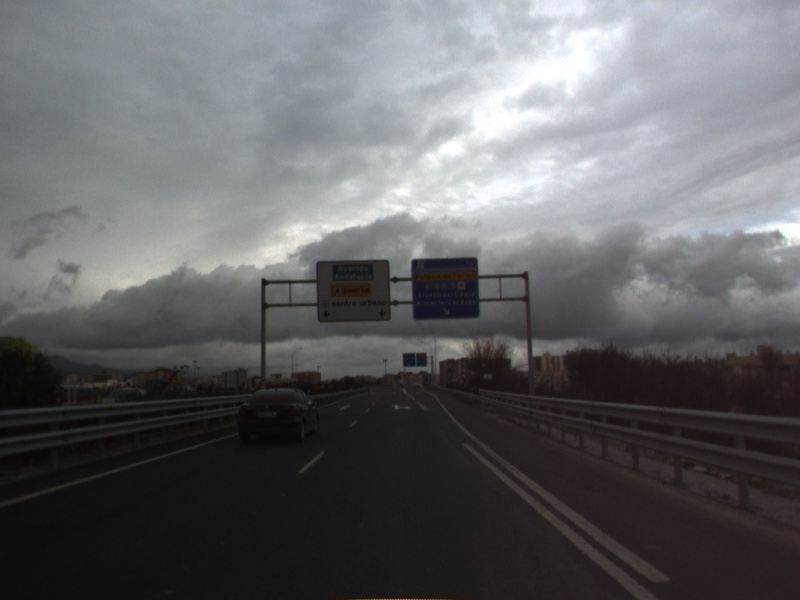STRAIGHT: (337, 403, 353, 412)
STRAIGHT_RIGHT: (390, 402, 413, 412)
